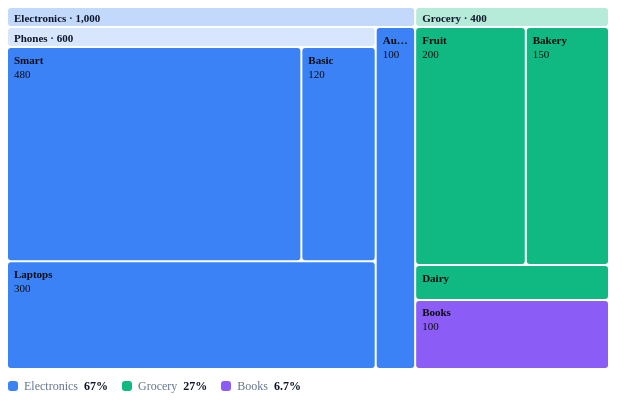
TreemapChart › hides a branch from the legend and re-lays out the rest
The width and height of the screenshot is (625, 413).
Click the button "Electronics 67%". click: (58, 386)
box: [4, 376, 112, 397]
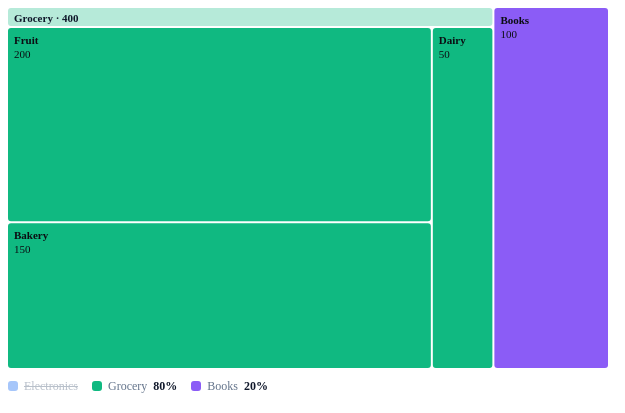
Result: the button "Grocery 80%" is shown at [88, 376, 181, 397]
